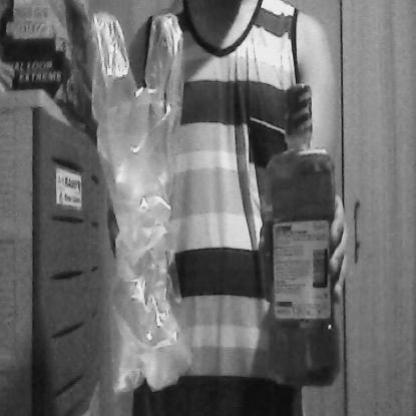Plastic Bottle: (250, 57, 353, 389)
